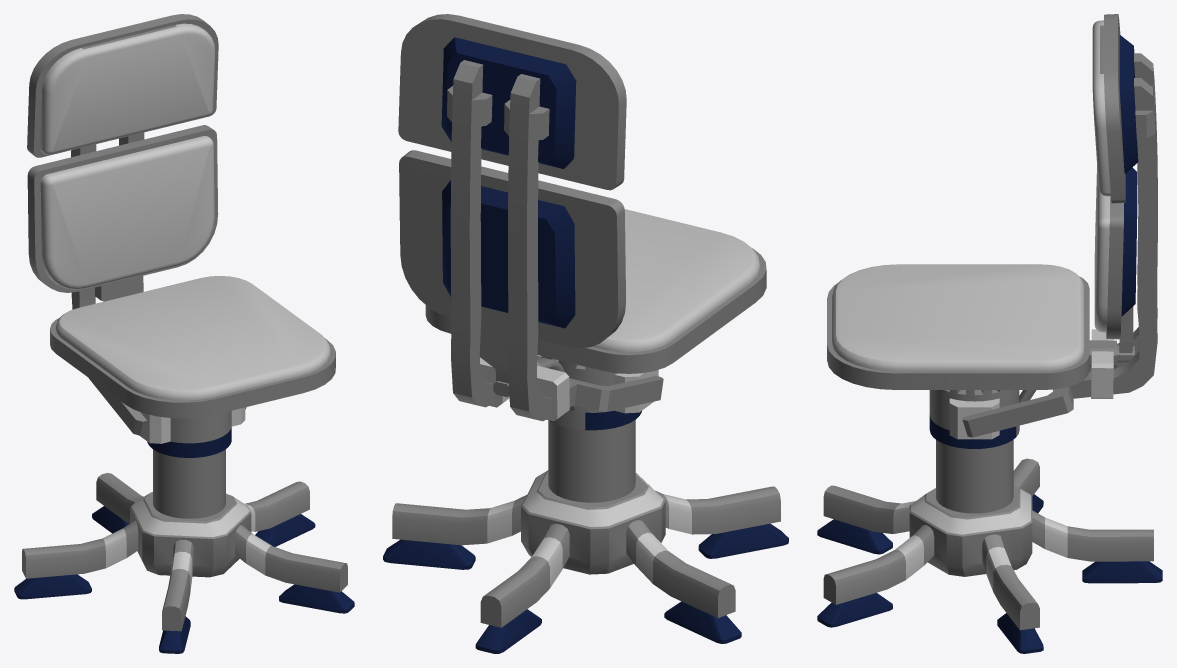
File: ErinChair1.fbx
3 views of the same model, side by side, from view 1: azimuth 30°, elevation 25°; view 2: azimuth 150°, elevation 25°; view 3: azimuth 270°, elevation 25° (orthographic). The views are drawn at different scales.
Parts seen in each view (by area): view 1: Chair; view 2: Chair; view 3: Chair.
Part boxes in pixels (x1,y1,x2,y2): Chair: (14,14,354,653); Chair: (383,14,788,653); Chair: (817,14,1162,653).
Bounding box in the file's own units: 195 × 315 × 185.
